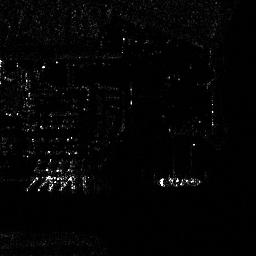ship: (159, 176, 201, 187)
